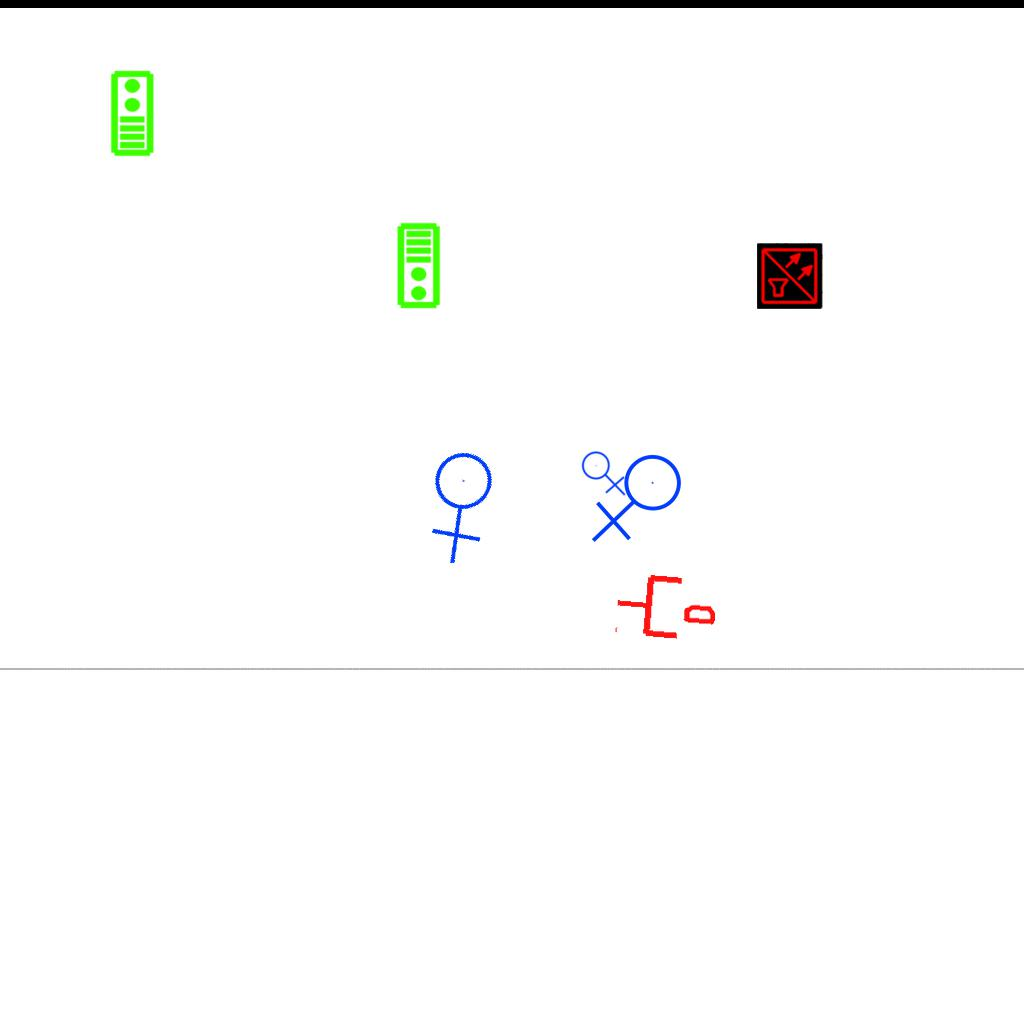Datenanschluss_einfach: (612, 568, 719, 646)
Elektroanschluss_allgemein_230V_Geraeteanschlussdose_230V: (396, 434, 533, 570), (591, 453, 690, 547), (581, 447, 628, 496)
Gegensprechanlage_mit_Video: (108, 69, 155, 157), (396, 222, 443, 310)
OKW_Multisensormelder_(Kombination_optischer_Rauch-Kahlenmonoxid_Waerme-Melder): (757, 243, 823, 309)
